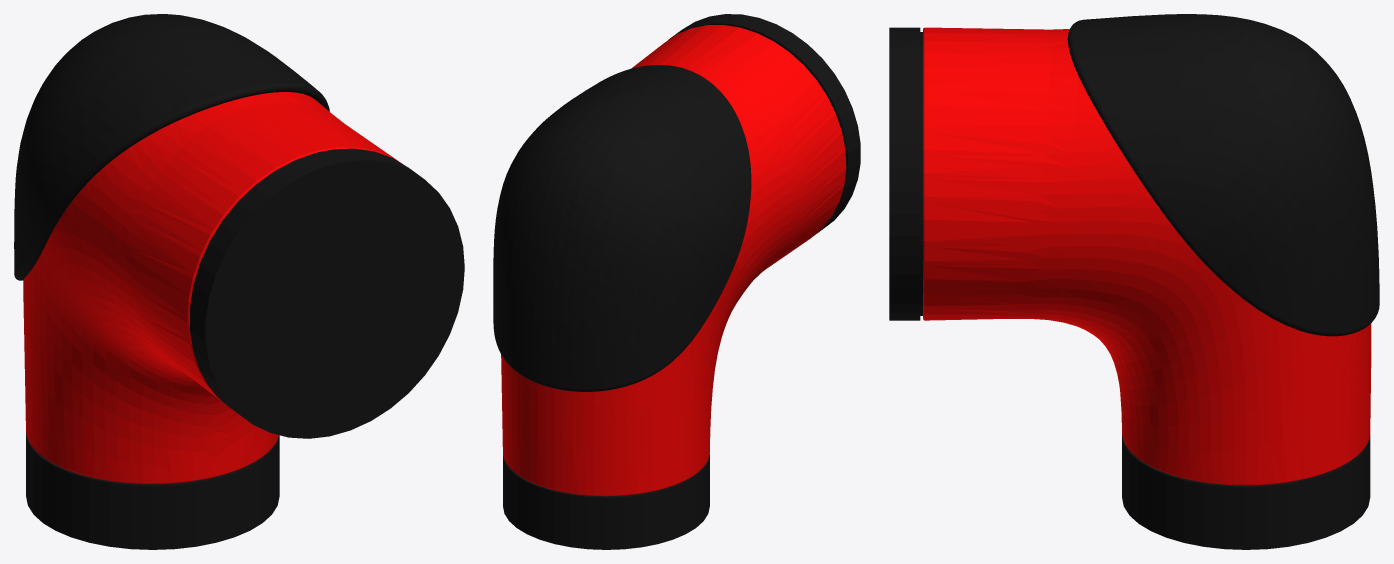
Rendered from right_l3_visuals_mesh_0.obj.
The picture shows the model from 3 angles, left to right: view 1: azimuth 30°, elevation 25°; view 2: azimuth 150°, elevation 25°; view 3: azimuth 270°, elevation 25°; orthographic projection. The views are drawn at different scales.
Size of the model in its own units: 0.1084 by 0.1838 by 0.1739.
